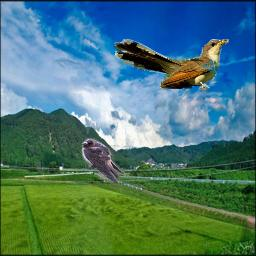Cuckoo: (114, 39, 229, 90)
Swallow: (81, 138, 126, 185)
